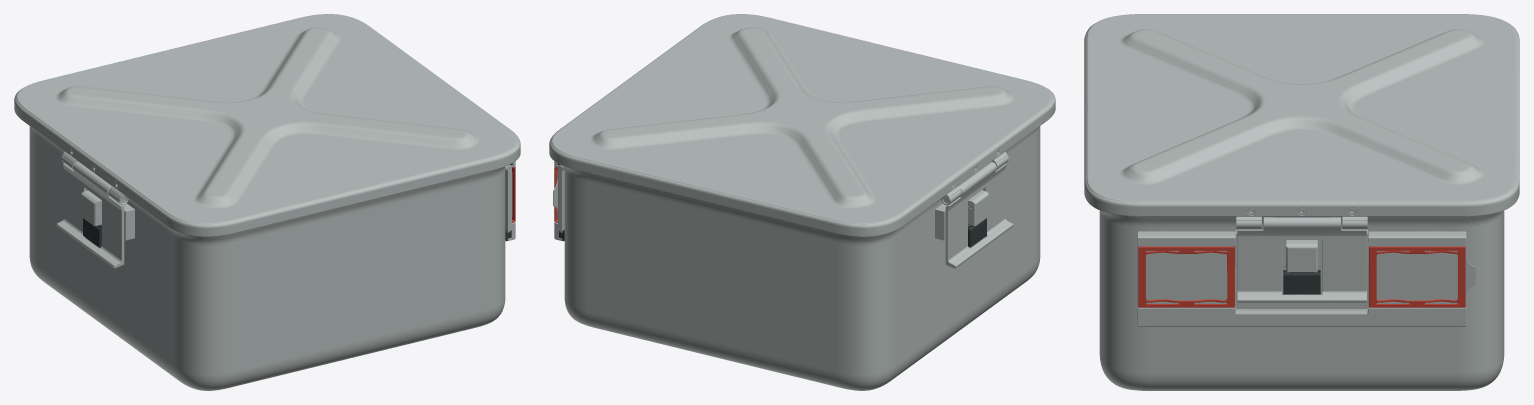
File: container_system_sterilising_a02.glb
The picture shows the model from 3 angles, left to right: view 1: azimuth 30°, elevation 25°; view 2: azimuth 150°, elevation 25°; view 3: azimuth 270°, elevation 25°; orthographic projection. The views are drawn at different scales.
Bounding box in the file's own units: 0.3278 × 0.1604 × 0.3013.
